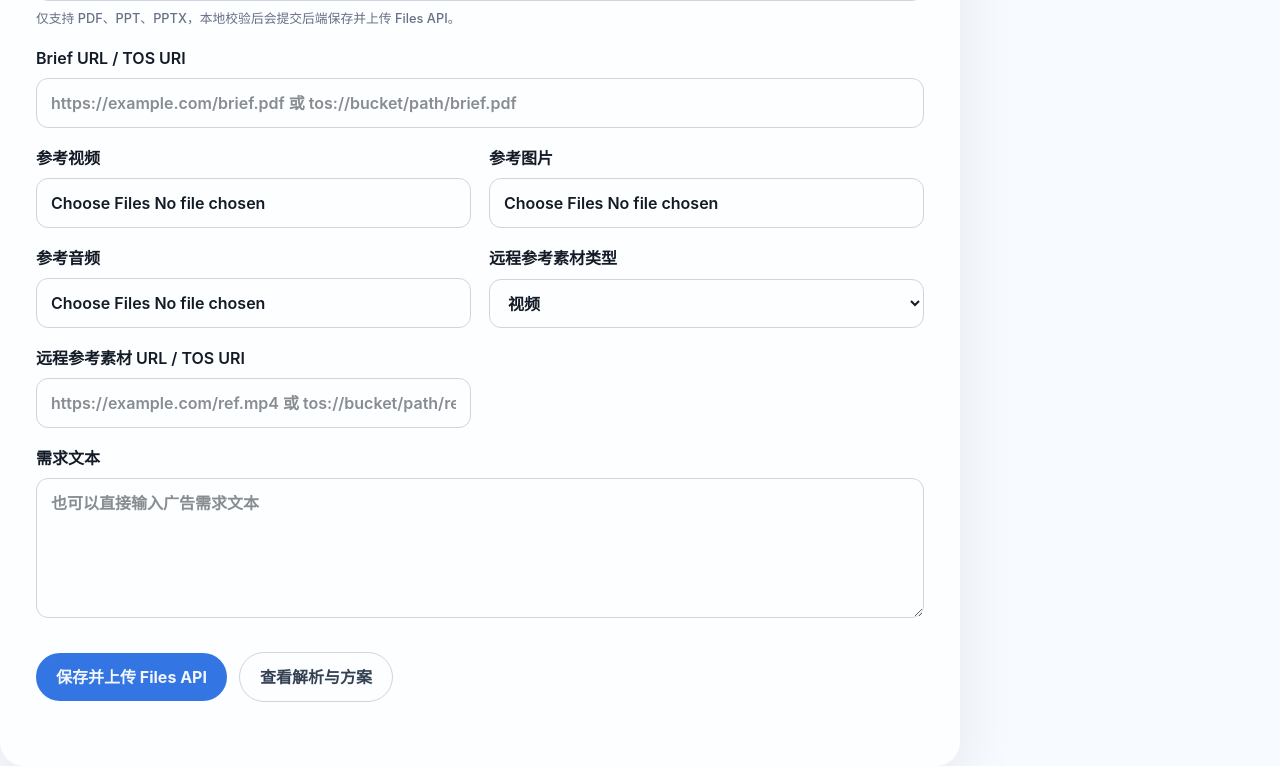
Test: BriefInputPage › 提交需求文本并展示保存结果
(page scrolled)
Type "突出年轻科技感" into the text box labelled "需求文本" at (480, 548), box [36,478,924,618]
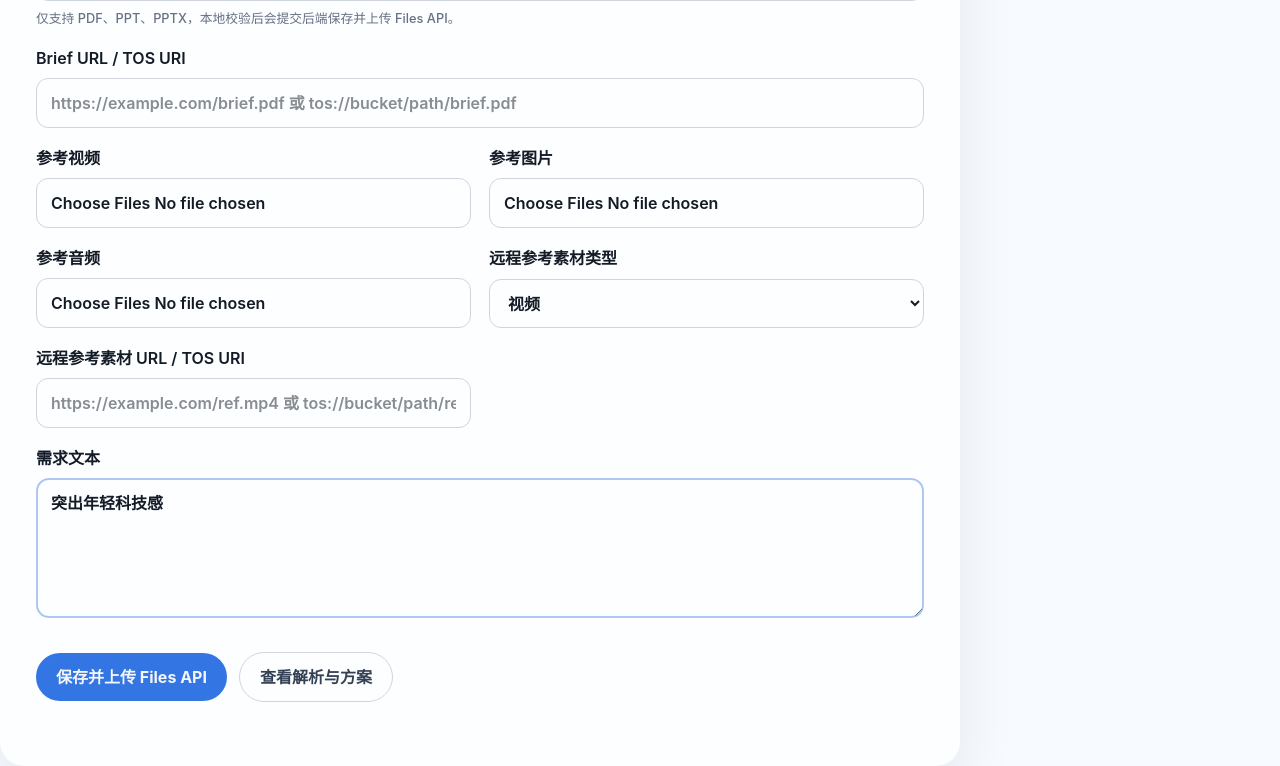
Click the button "保存并上传 Files API" at (132, 677), box [36,653,227,701]
(page scrolled)
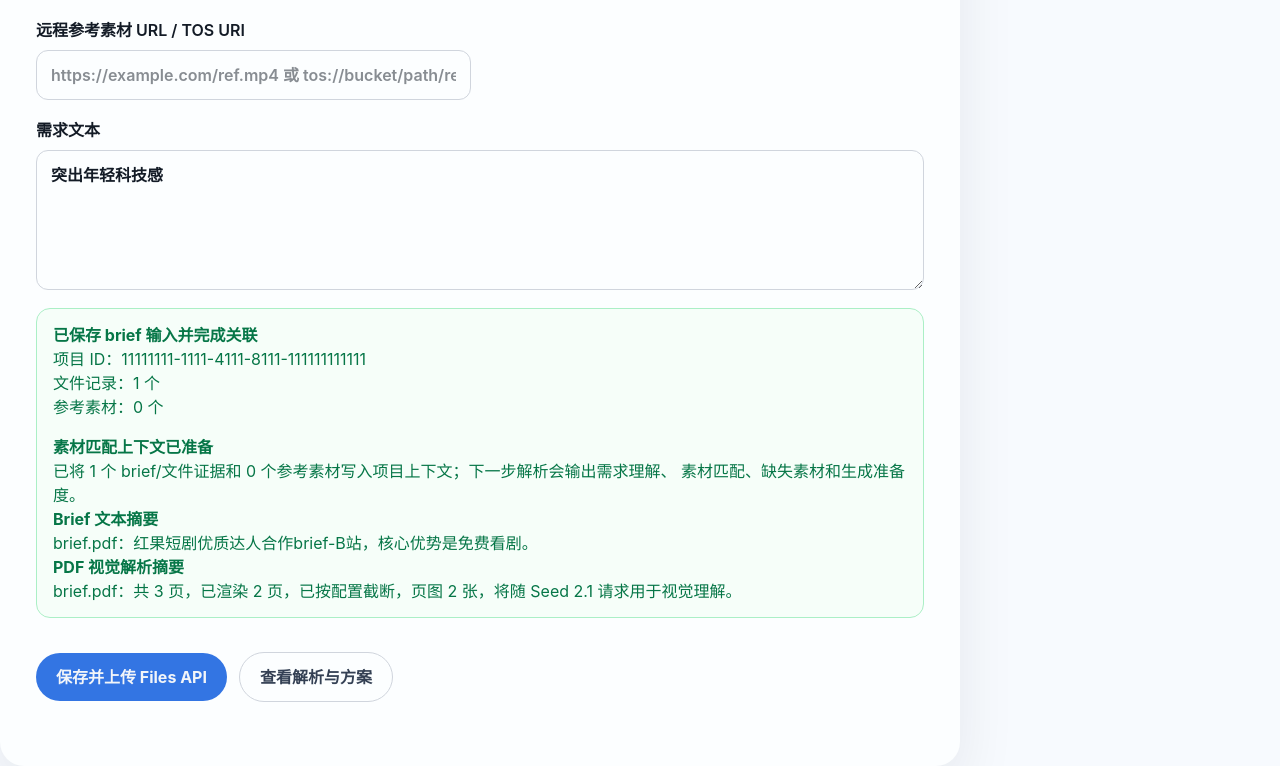
Expected: the text "已保存 brief 输入并完成关联" is shown, [53,325,258,345]
Expected: the list item "文件记录：1 个" is shown, [53,373,160,393]
Expected: the text "素材匹配上下文已准备" is shown, [53,437,213,457]
